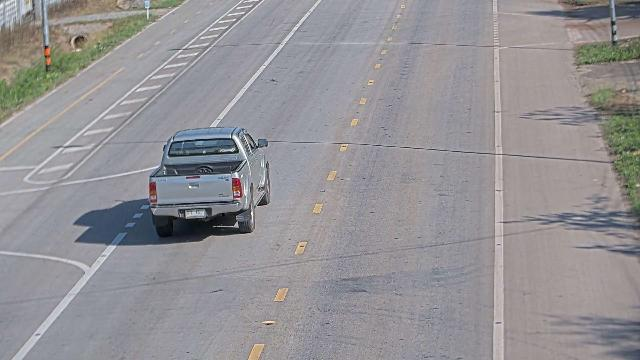pickup-truck: (147, 125, 271, 237)
